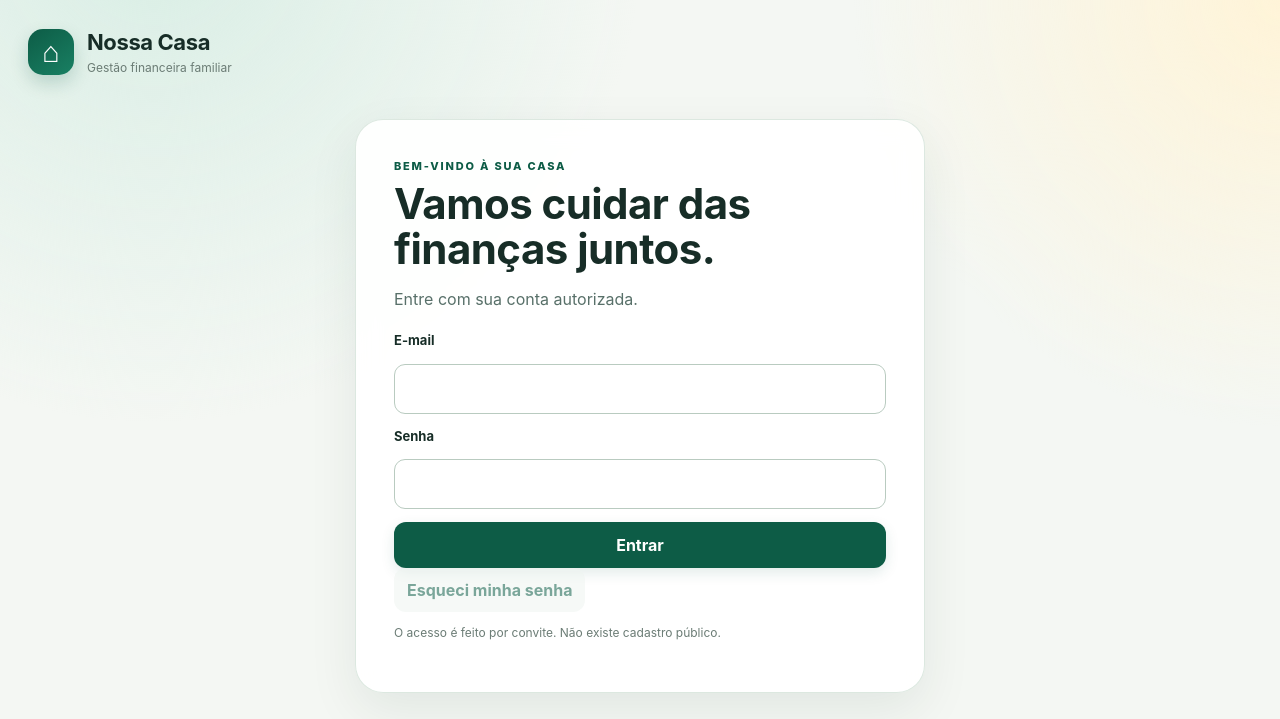
acesso privado › solicita recuperação sem revelar se o e-mail existe
In the field labelled "E-mail": {"x": 640, "y": 389} x1=394 y1=364 x2=886 y2=414, type "pessoa@example.invalid"
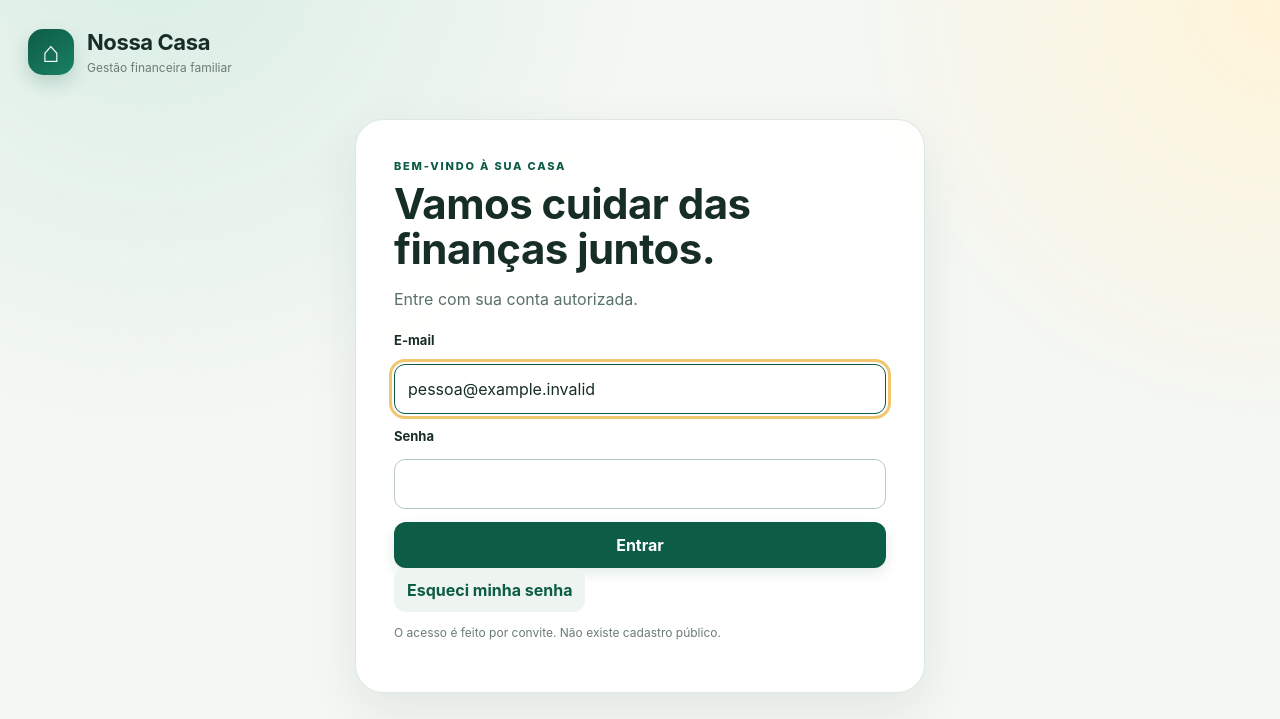
Click the button "Esqueci minha senha": {"x": 490, "y": 590} x1=394 y1=568 x2=585 y2=612
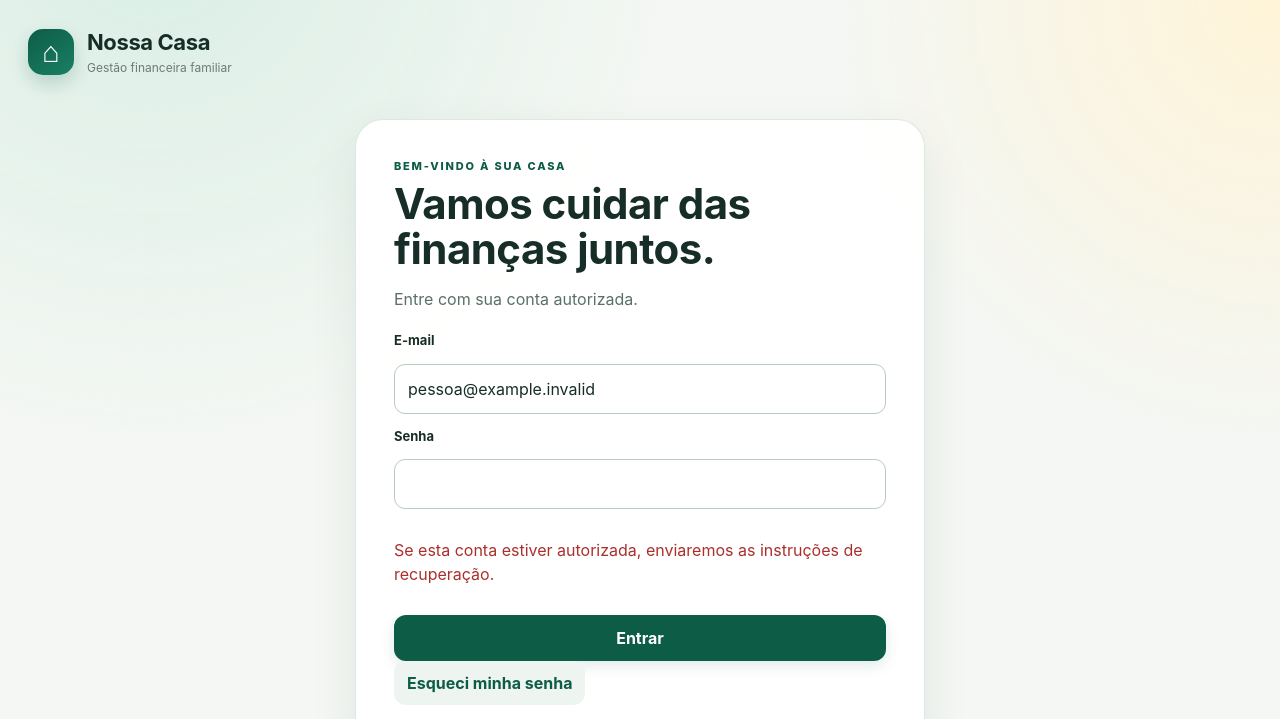
Now the message shows "Se esta conta estiver autorizada", box x1=394 y1=540 x2=862 y2=584
